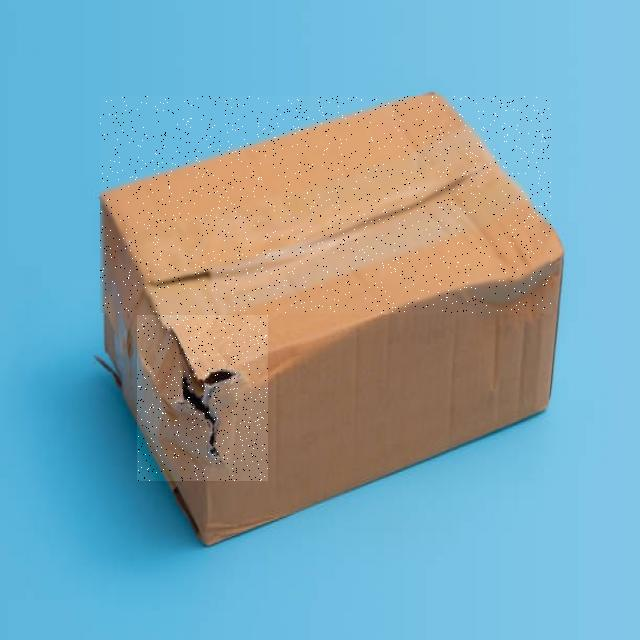squeeze: (101, 97, 551, 313)
tear: (137, 315, 268, 481)
